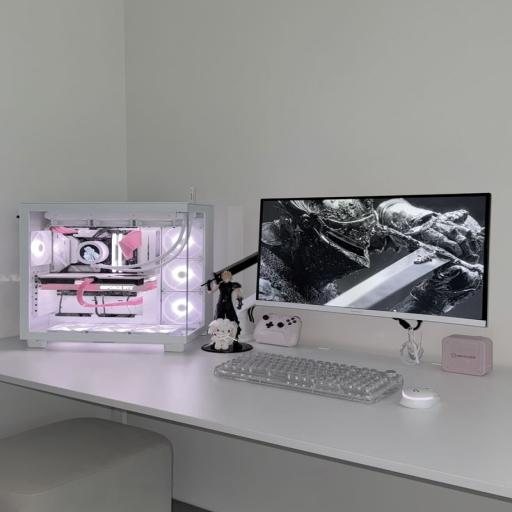computer case: (20, 202, 212, 352)
monitor: (256, 190, 490, 325)
